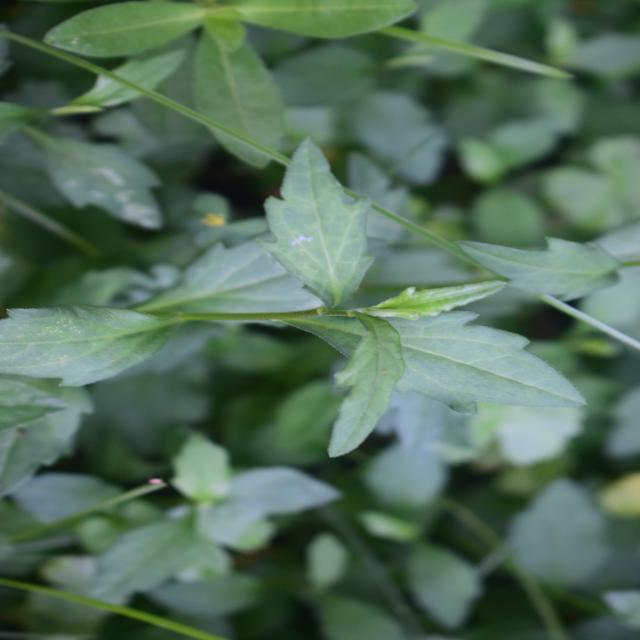Indian aster: (163, 78, 435, 612)
